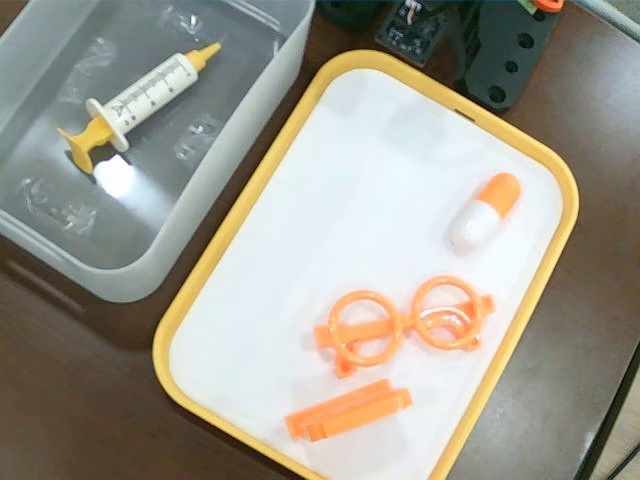pill: (450, 172, 522, 252)
syringe: (57, 41, 222, 174)
